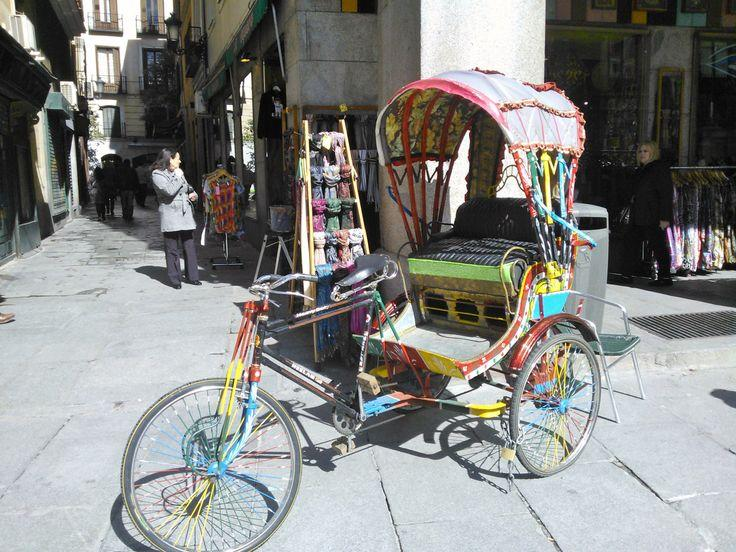Rickshaw: (122, 70, 600, 549)
